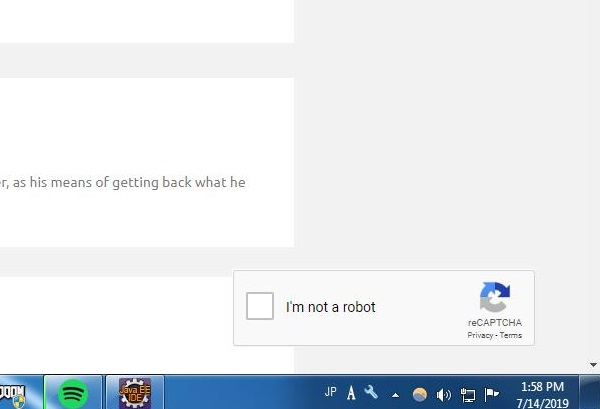captcha: (246, 292, 380, 320)
